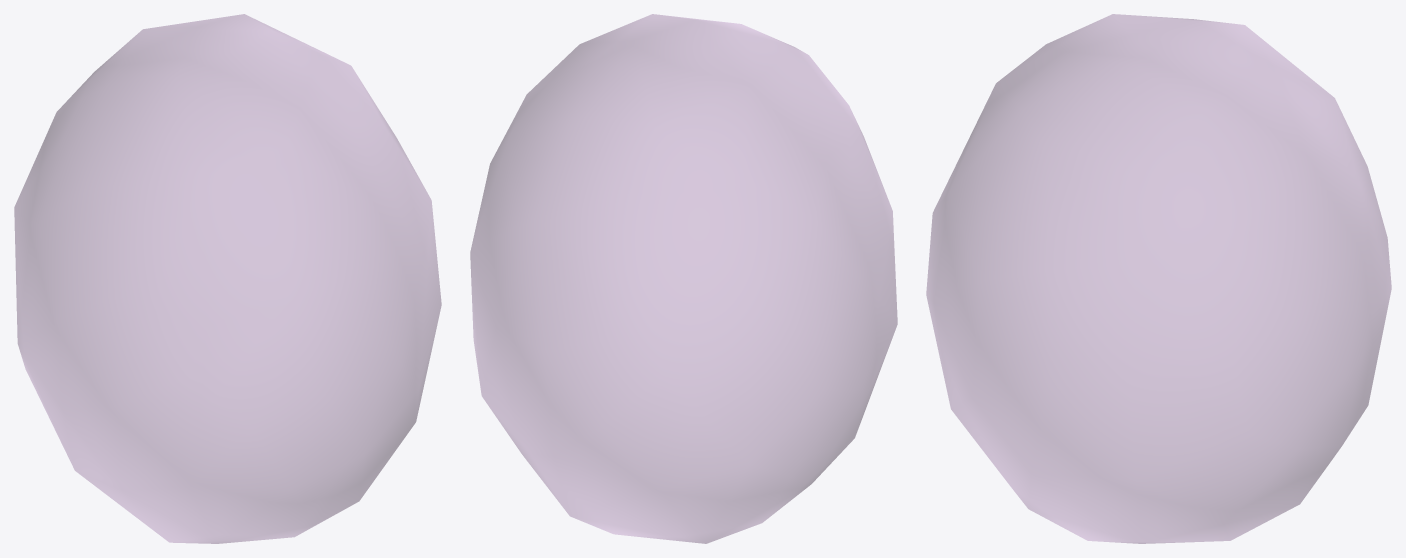
File: LowPolyProjectile.fbx
3 views of the same model, side by side, from view 1: azimuth 30°, elevation 25°; view 2: azimuth 150°, elevation 25°; view 3: azimuth 270°, elevation 25° (orthographic).
Parts seen in each view (by area): view 1: Sphere; view 2: Sphere; view 3: Sphere.
Part boxes in pixels (left/top/right/bottom): Sphere: left=14, top=14, right=441, bottom=543; Sphere: left=470, top=14, right=897, bottom=543; Sphere: left=926, top=14, right=1391, bottom=543.
Bounding box in the file's own units: 1.91 × 2.51 × 2.07.
